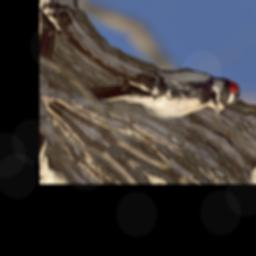Woodpecker: (84, 32, 252, 153)
